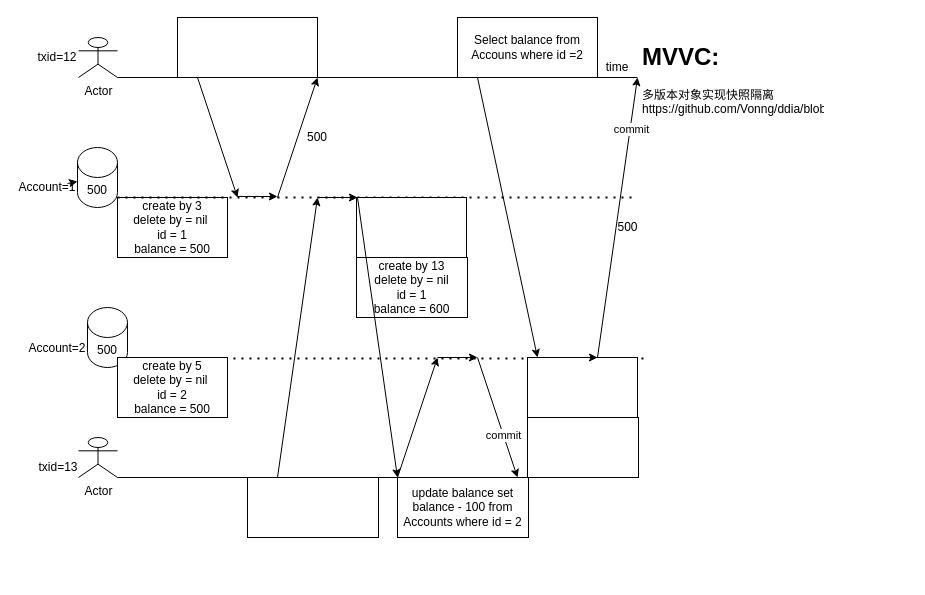
This 925x595 diagram has some shape labels left out. The shapes that lost their labels are listed below. From the top down, each one's box as (x1, y1, x2, y2) in pixels, then its label:
(176, 16, 318, 78): Select balance from Accouns where id =1
(356, 196, 466, 258): create by 3 delete by =13 id = 1 balance = 500
(526, 356, 638, 418): create by 5 delete by =13 id = 2 balance = 500
(526, 416, 638, 478): create by 13 delete by = nil id = 2 balance = 400
(246, 476, 378, 538): update balance set balance + 100 from Accounts where id = 1
